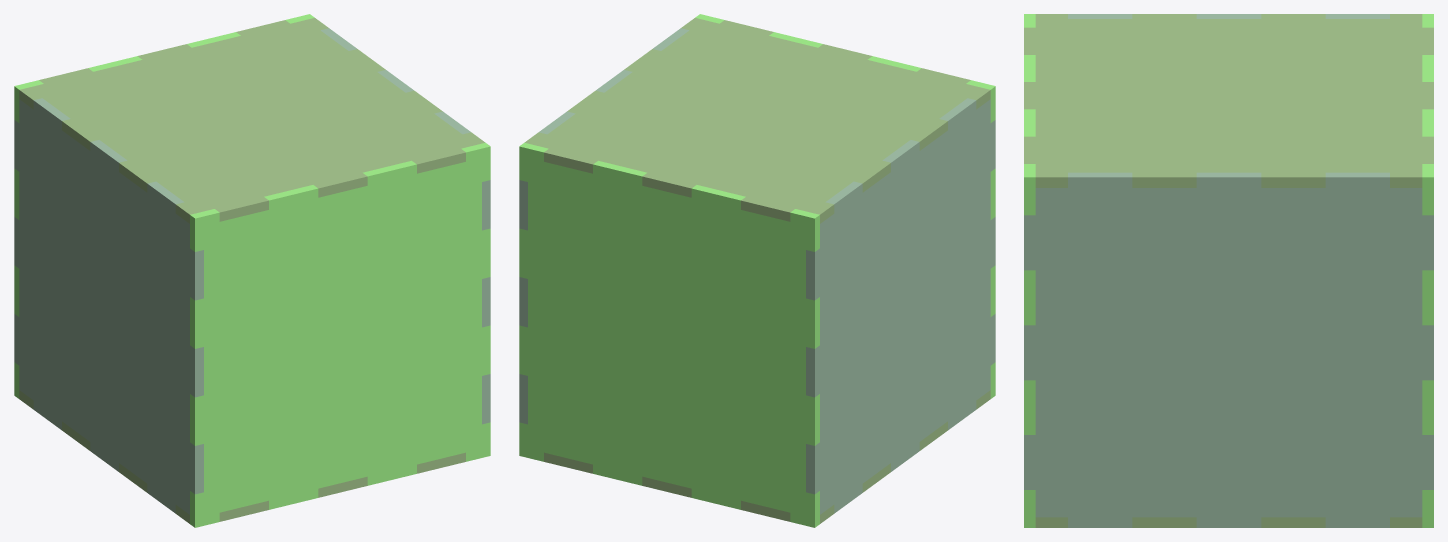
3 views of the same model, side by side, from view 1: azimuth 30°, elevation 25°; view 2: azimuth 150°, elevation 25°; view 3: azimuth 270°, elevation 25° (orthographic). The views are drawn at different scales.
Parts seen in each view (by area): view 1: out-left, out-back, out-top, out-bottom, out-front, out-right; view 2: out-right, out-back, out-top, out-bottom, out-front, out-left; view 3: out-front, out-top, out-right, out-left, out-bottom, out-back.
Part boxes in pixels (box(x1,y1,x2,y2)): out-left: box(190, 142, 490, 527); out-back: box(14, 98, 203, 514); out-top: box(19, 18, 484, 223); out-bottom: box(19, 390, 465, 523); out-front: box(321, 28, 490, 424); out-right: box(14, 14, 314, 398); out-right: box(519, 142, 819, 527); out-back: box(806, 98, 995, 514); out-top: box(525, 18, 990, 223); out-bottom: box(544, 390, 990, 523); out-front: box(519, 28, 688, 424); out-left: box(695, 14, 995, 398); out-front: box(1024, 172, 1433, 527); out-top: box(1024, 14, 1433, 187); out-right: box(1422, 14, 1433, 527); out-left: box(1024, 14, 1035, 527); out-bottom: box(1035, 517, 1422, 527); out-back: box(1068, 14, 1389, 18).
Bounding box in the file's own units: 0.1 × 0.1 × 0.106.
